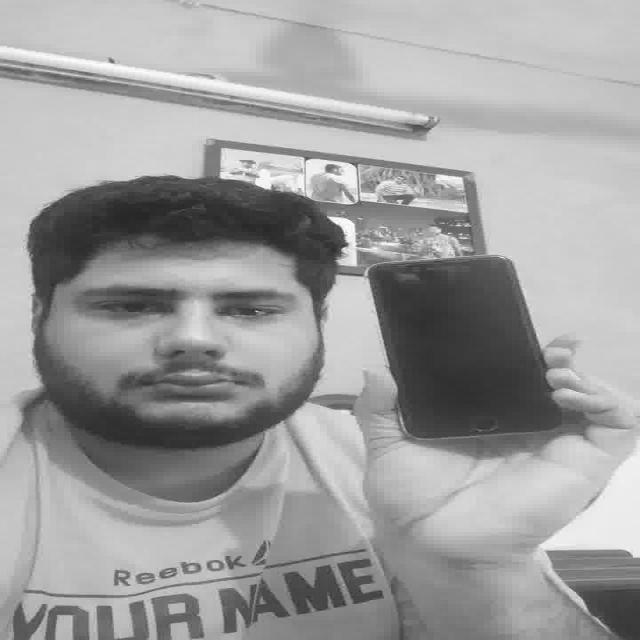fake: (365, 253, 564, 439)
